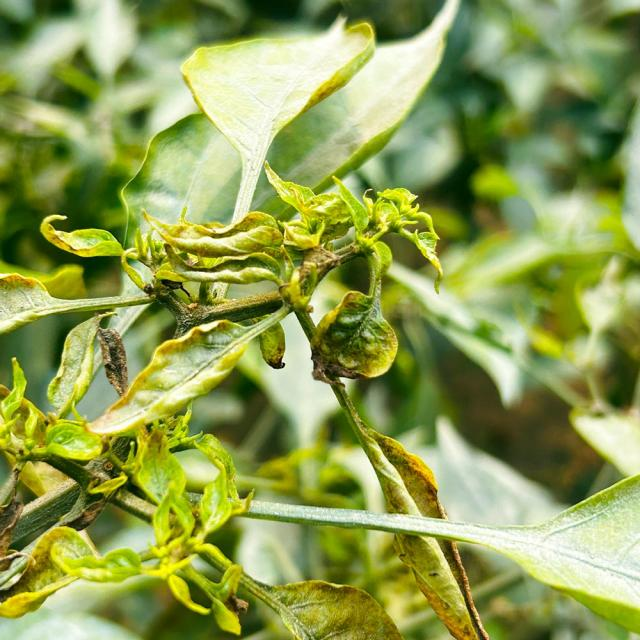Chilli_Leaf_Curl: (1, 4, 637, 637), (140, 160, 444, 383), (326, 379, 488, 639), (178, 12, 376, 224), (308, 289, 399, 383)
